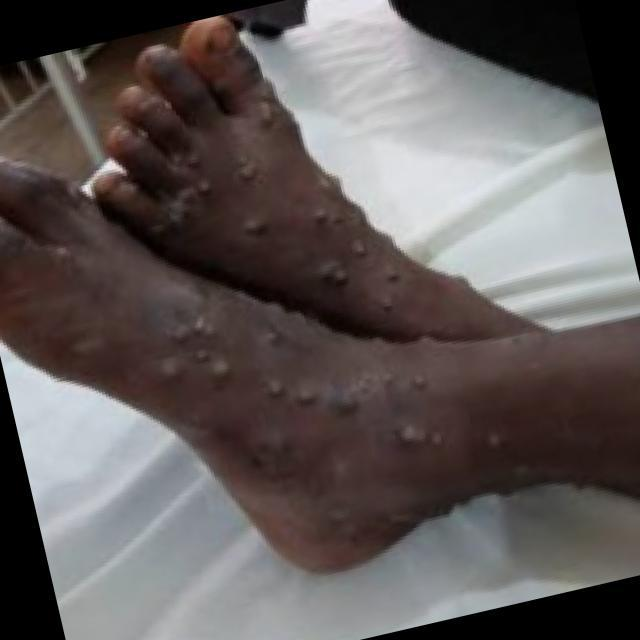Eczema: (102, 306, 494, 512), (134, 87, 431, 335)
